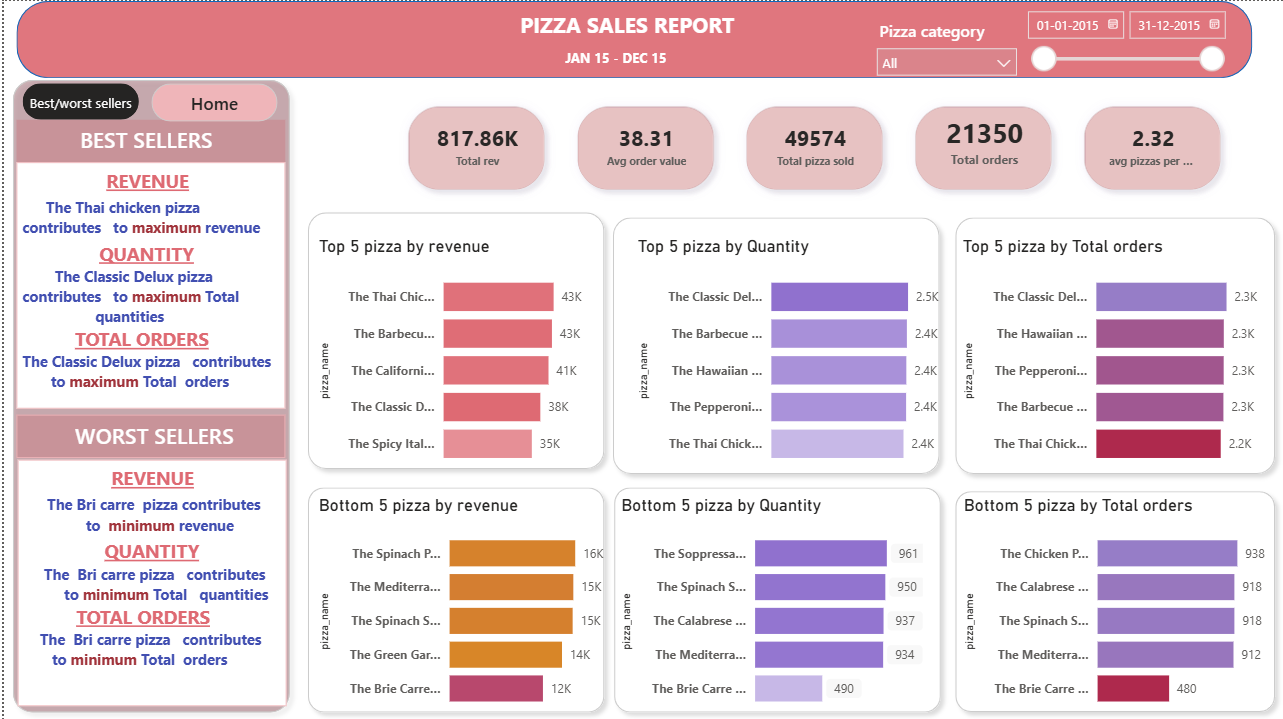

The page's visual inventory and layout, read from the dashboard file:
{"tool":"powerbi","page":{"name":"Best/worst sellers","canvas":[1280,720],"ordinal":1},"visuals":[{"type":"shape","box":[0,69.7,294.8,650.6],"z":0},{"type":"textbox","box":[12.4,118.2,268.7,43.5],"z":1000},{"type":"cardVisual","fields":{"Data":["pizzaa pizza_sales.Total rev","pizzaa pizza_sales.Avg order value","pizzaa pizza_sales.Total pizza sold","pizzaa pizza_sales.Total orders","pizzaa pizza_sales.avg pizzas per order"]},"box":[374.6,76.8,874.1,142.7],"z":2000},{"type":"shape","box":[12.9,0,1235.7,77.1],"z":3000},{"type":"textbox","box":[511.4,4.3,258.6,38.6],"z":4000},{"type":"textbox","box":[552.3,42.3,220.2,34.8],"z":5000},{"type":"shape","box":[295,203.1,314.2,274.4],"z":6000},{"type":"textbox","box":[12.4,161.7,268.7,246.3],"z":7000},{"type":"textbox","box":[12.4,414.2,268.7,43.5],"z":8000},{"type":"textbox","box":[13.7,459,268.7,246.3],"z":9000},{"type":"slicer","fields":{"Values":["pizzaa pizza_sales.pizza_category"]},"box":[862.9,14.3,160,67.1],"z":10000},{"type":"slicer","fields":{"Values":["pizzaa pizza_sales.order_date"]},"box":[1011.3,0,217.7,77.1],"z":11000},{"type":"shape","box":[599.7,207.2,344.4,274.4],"z":12000},{"type":"shape","box":[942.7,207.2,337.6,274.4],"z":13000},{"type":"shape","box":[295,477.5,314.2,242.9],"z":14000},{"type":"shape","box":[601,477.5,344.4,242.9],"z":15000},{"type":"shape","box":[942.7,481.6,337.6,238.8],"z":16000},{"type":"barChart","title":"Top 5 pizza by revenue","fields":{"Category":["pizzaa pizza_sales.pizza_name"],"Y":["pizzaa pizza_sales.Total rev"]},"box":[310.1,234.6,286.8,242.9],"z":17000},{"type":"barChart","title":"Bottom 5 pizza by revenue","fields":{"Category":["pizzaa pizza_sales.pizza_name"],"Y":["pizzaa pizza_sales.Total rev"]},"box":[310.1,494,301.9,226.4],"z":18000},{"type":"barChart","title":"Top 5 pizza by Quantity","fields":{"Category":["pizzaa pizza_sales.pizza_name"],"Y":["pizzaa pizza_sales.Total pizza sold"]},"box":[628.5,234.6,311.5,242.9],"z":19000},{"type":"barChart","title":"Bottom 5 pizza by Quantity","fields":{"Category":["pizzaa pizza_sales.pizza_name"],"Y":["pizzaa pizza_sales.Total pizza sold"]},"box":[612,494,311.5,226.4],"z":20000},{"type":"barChart","title":"Top 5 pizza by Total orders","fields":{"Category":["pizzaa pizza_sales.pizza_name"],"Y":["pizzaa pizza_sales.Total orders"]},"box":[953.7,234.6,311.5,242.9],"z":20001},{"type":"barChart","title":"Bottom 5 pizza by Total orders","fields":{"Category":["pizzaa pizza_sales.pizza_name"],"Y":["pizzaa pizza_sales.Total orders"]},"box":[955.1,494,311.5,226.4],"z":20002},{"type":"pageNavigator","box":[19.3,82,116.7,36.7],"z":20003},{"type":"pageNavigator","box":[148.1,81.9,126.7,38.1],"z":20004}]}

Visuals, with their boxes in screenshot pixels (x1, y1, x2, y2), scaled from the page's 1280x720 canvas onto the 1283x719 screenshot:
shape: BBox(0, 70, 295, 718)
textbox: BBox(12, 118, 282, 161)
cardVisual - pizzaa pizza_sales.Total rev x pizzaa pizza_sales.Avg order value: BBox(375, 77, 1252, 219)
shape: BBox(13, 0, 1252, 77)
textbox: BBox(513, 4, 772, 43)
textbox: BBox(554, 42, 774, 77)
shape: BBox(296, 203, 611, 477)
textbox: BBox(12, 161, 282, 407)
textbox: BBox(12, 414, 282, 457)
textbox: BBox(14, 458, 283, 704)
slicer - pizzaa pizza_sales.pizza_category: BBox(865, 14, 1025, 81)
slicer - pizzaa pizza_sales.order_date: BBox(1014, 0, 1232, 77)
shape: BBox(601, 207, 946, 481)
shape: BBox(945, 207, 1282, 481)
shape: BBox(296, 477, 611, 718)
shape: BBox(602, 477, 948, 718)
shape: BBox(945, 481, 1282, 718)
"Top 5 pizza by revenue" barChart: BBox(311, 234, 598, 477)
"Bottom 5 pizza by revenue" barChart: BBox(311, 493, 613, 718)
"Top 5 pizza by Quantity" barChart: BBox(630, 234, 942, 477)
"Bottom 5 pizza by Quantity" barChart: BBox(613, 493, 926, 718)
"Top 5 pizza by Total orders" barChart: BBox(956, 234, 1268, 477)
"Bottom 5 pizza by Total orders" barChart: BBox(957, 493, 1270, 718)
pageNavigator: BBox(19, 82, 136, 119)
pageNavigator: BBox(148, 82, 275, 120)
